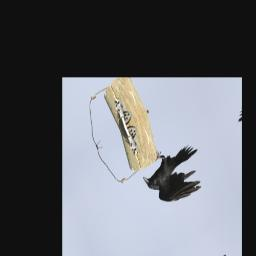Crow: (138, 128, 211, 220)
